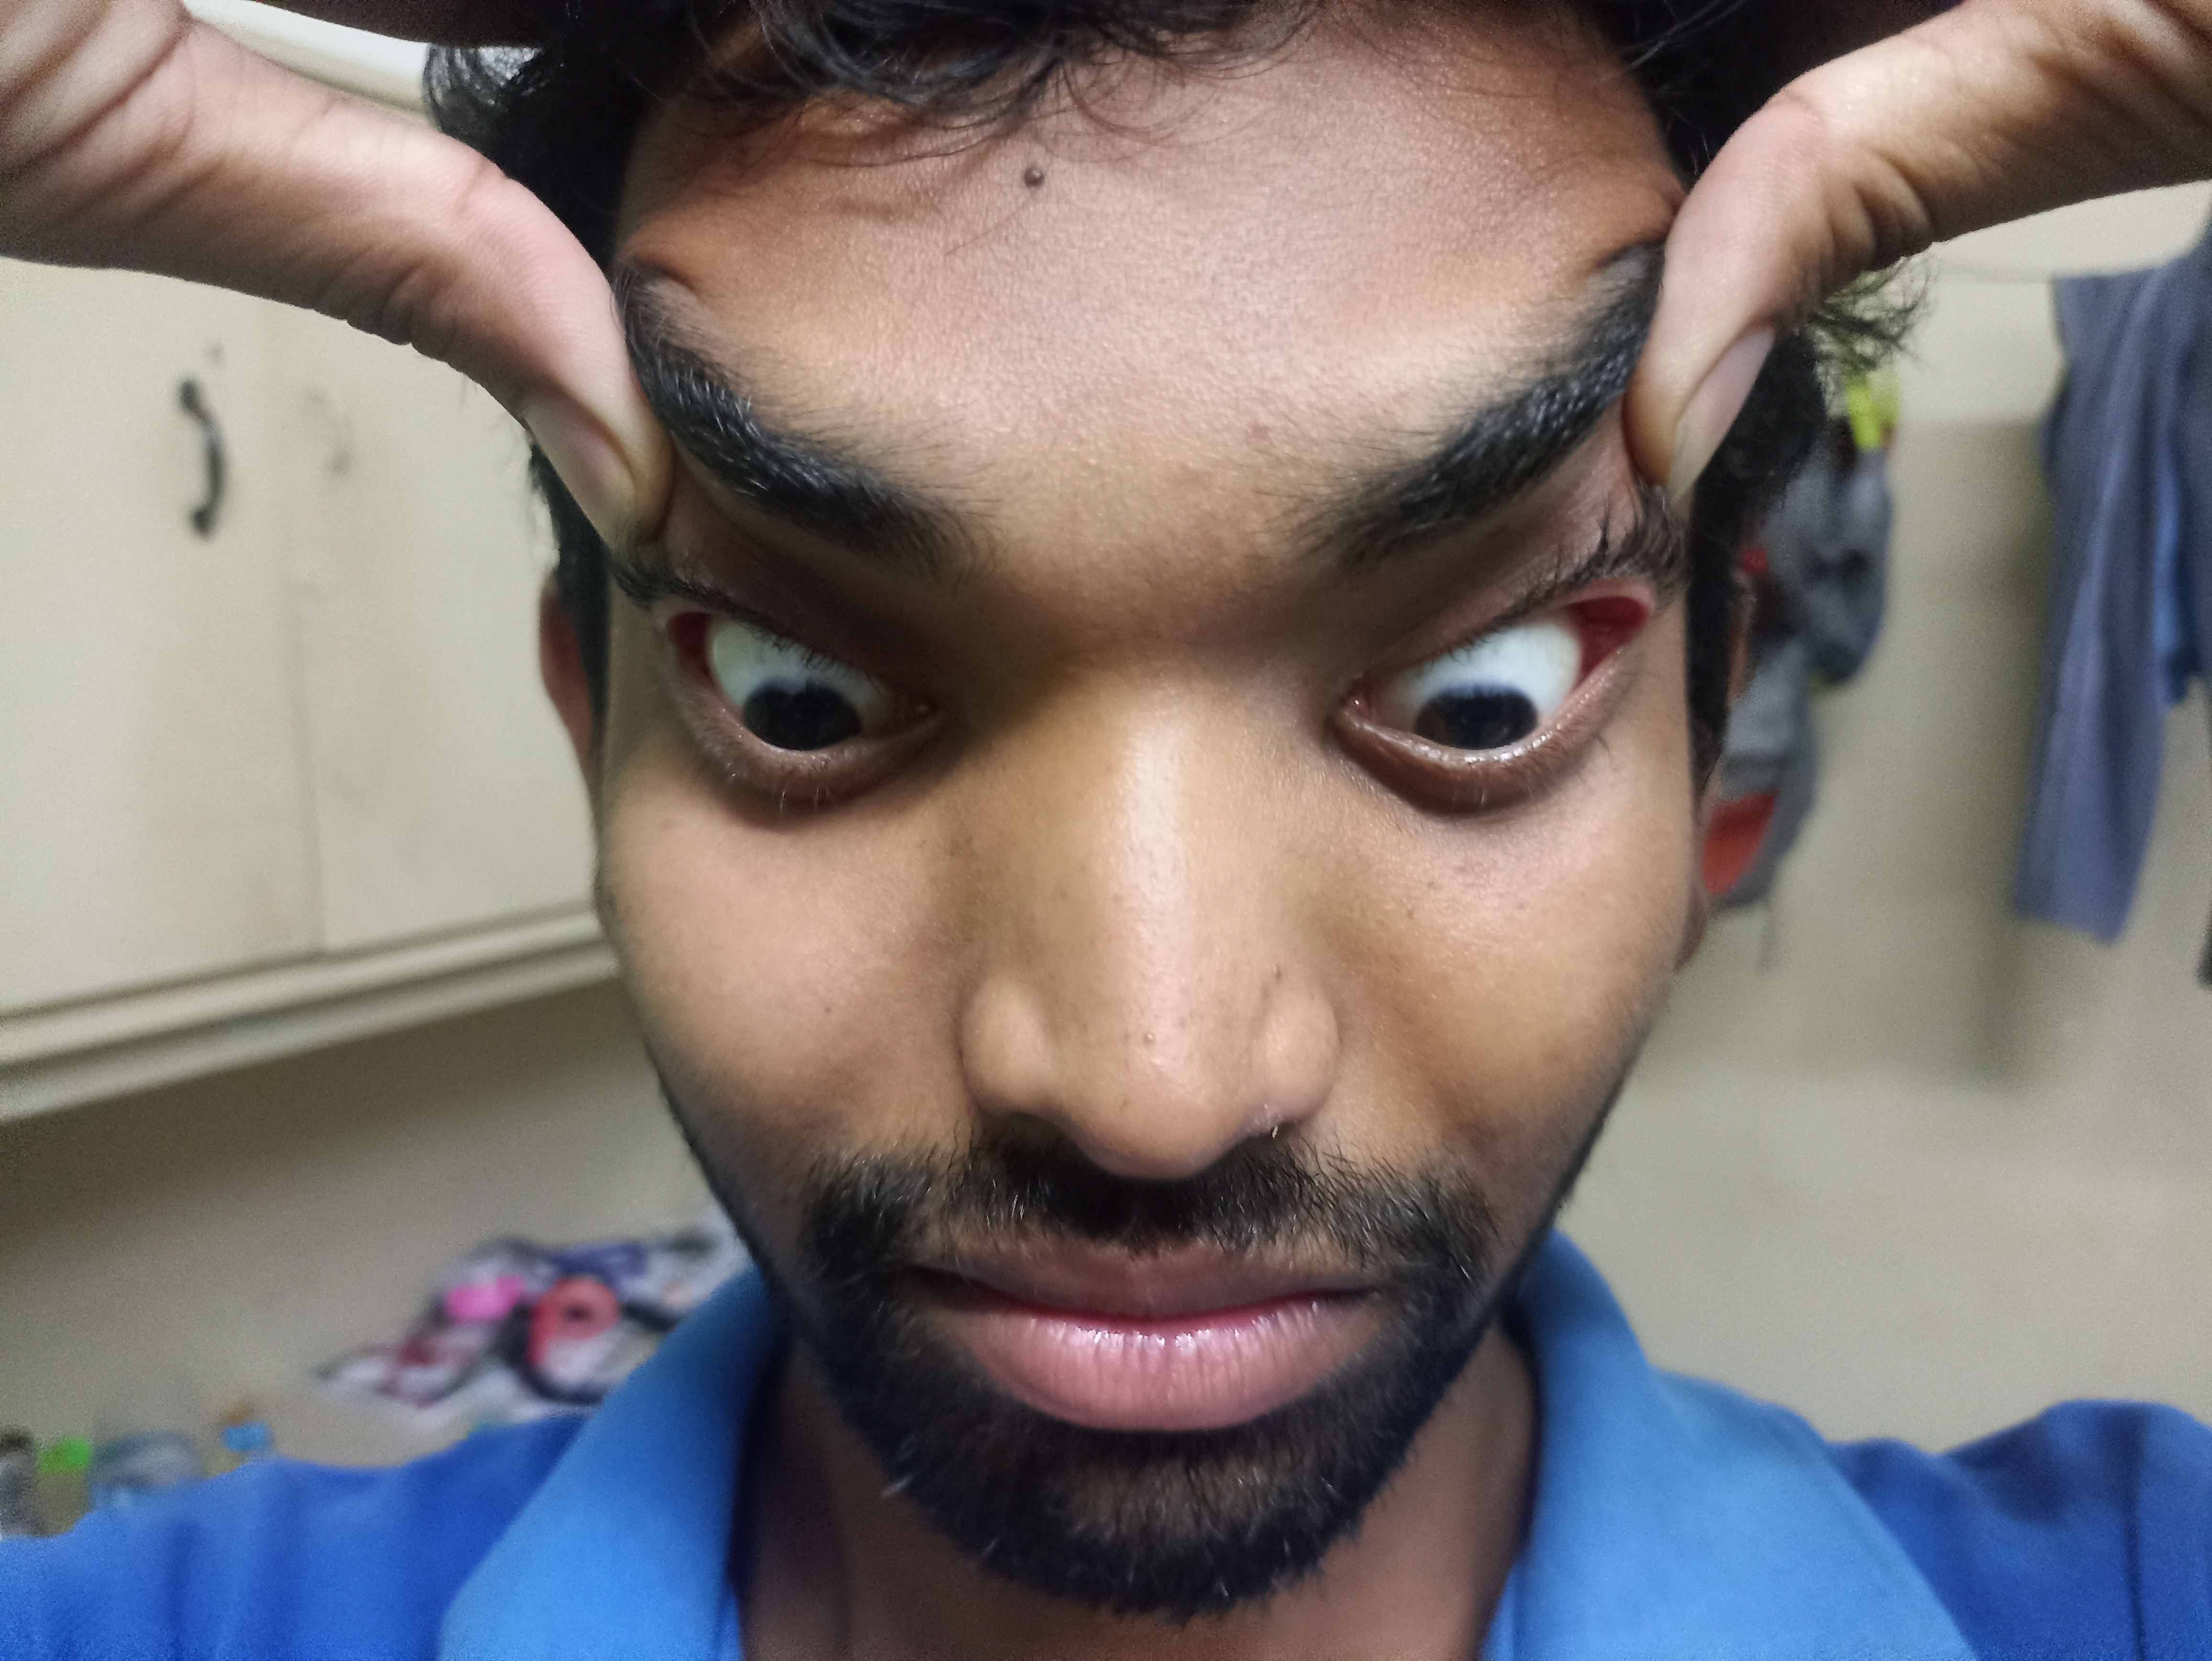EYE DOWN: (1155, 401, 1825, 967), (438, 400, 972, 946)
